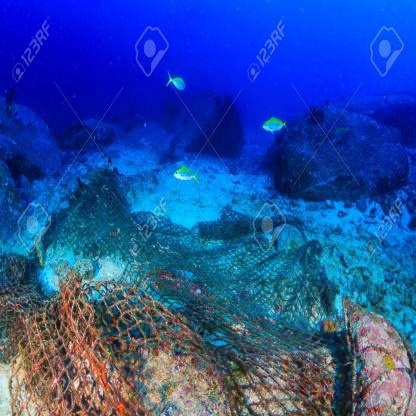net: (1, 211, 349, 416)
